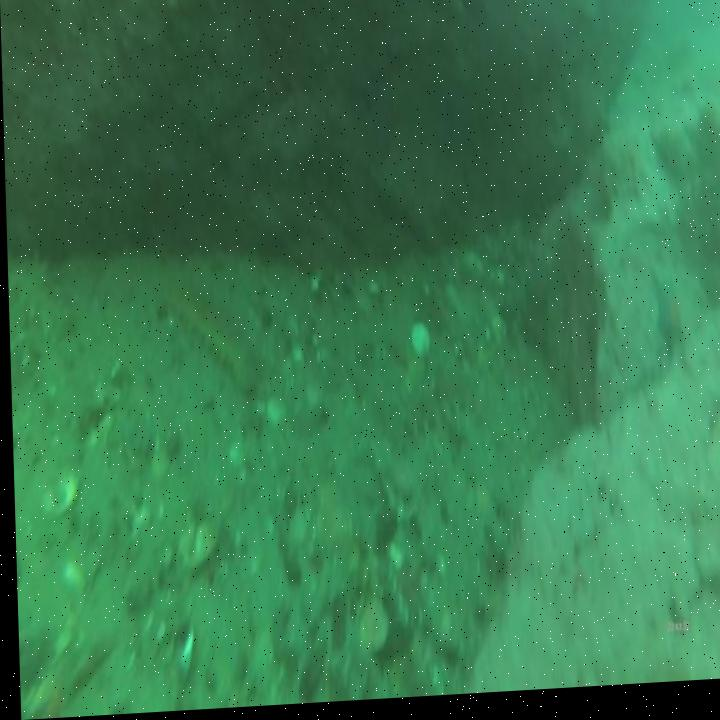holothurian: (166, 291, 257, 410), (395, 360, 477, 444), (6, 249, 73, 346)
starfish: (646, 267, 688, 383)
